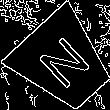N_SE: (31, 31, 95, 95)
